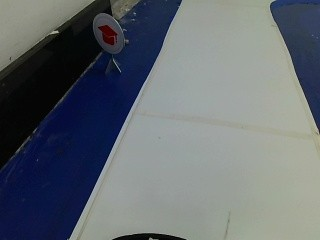school: (91, 12, 125, 54)
